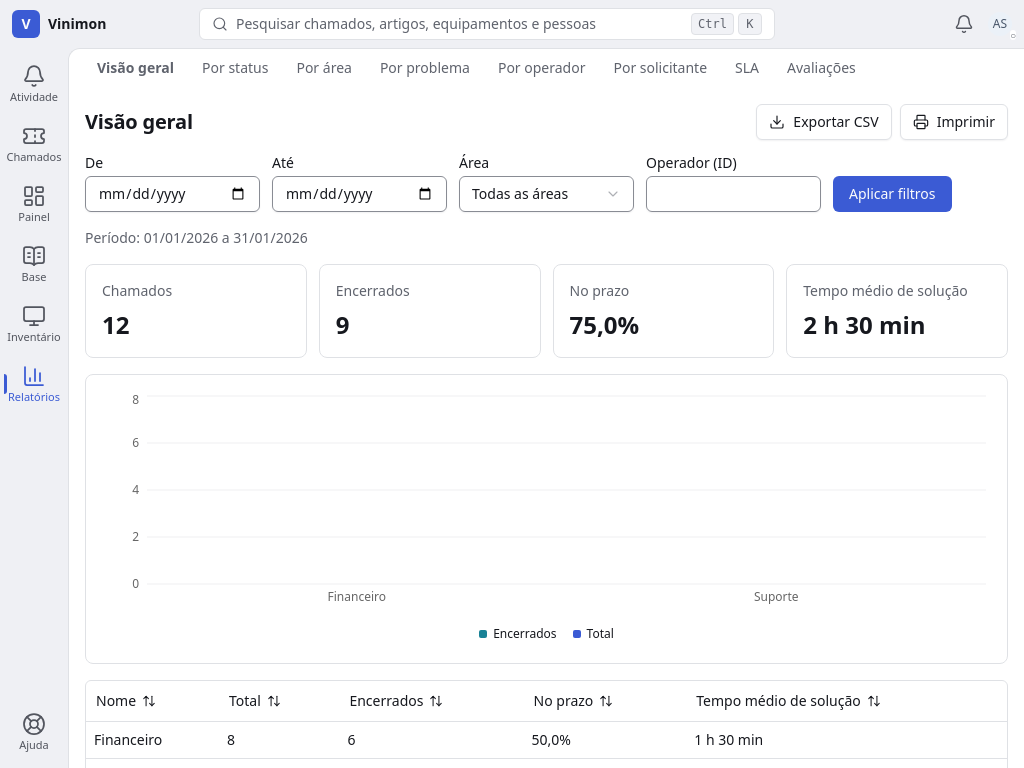
Test case: relatórios › intervalo de datas invertido mostra erro e não muda a URL
Expected: the table named "Dados do relatório" is shown, [86,681,1007,767]
Type "2026-02-10" into the date field labelled "De" at (172, 194), box [85,176,260,212]
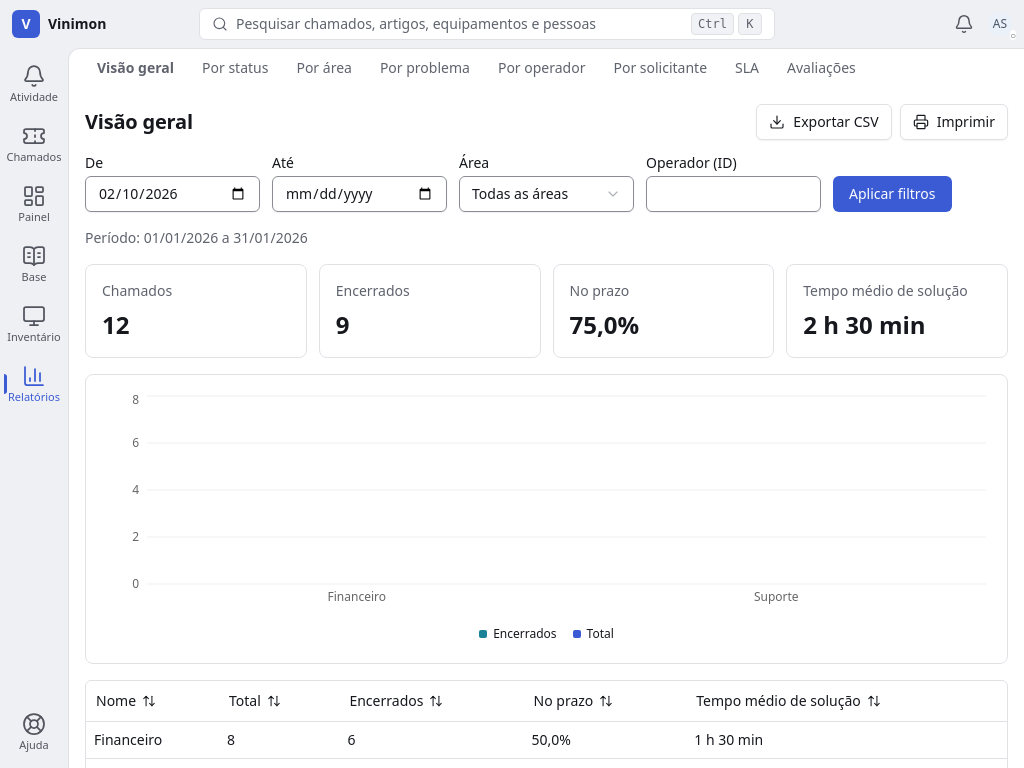
Type "2026-02-01" into the date field labelled "Até" at (360, 194), box [272,176,447,212]
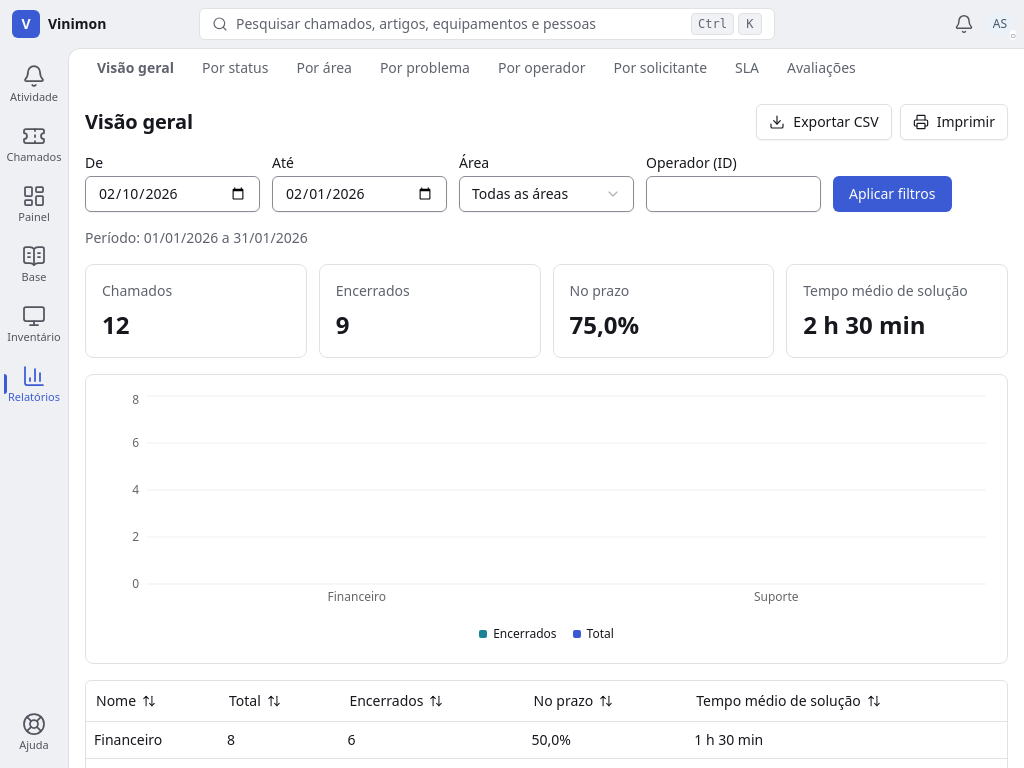
Click the button "Aplicar filtros" at (892, 194), box [833,176,952,212]
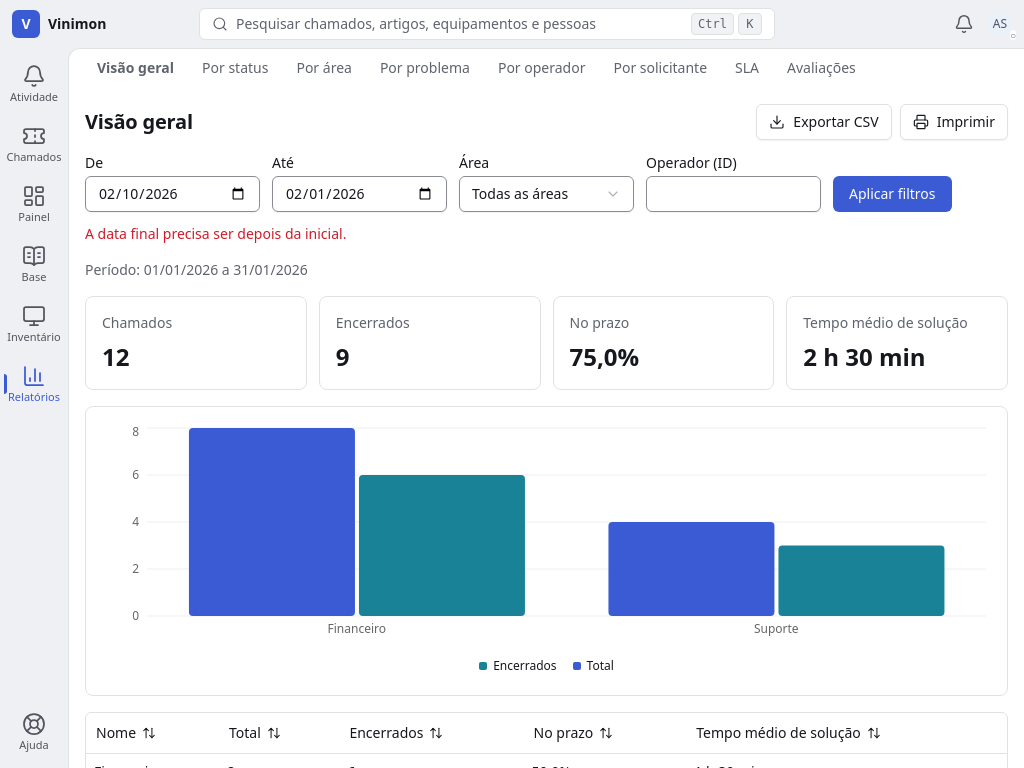
Now the message reads "A data final precisa ser depois da inicial.", box [85,224,346,243]
